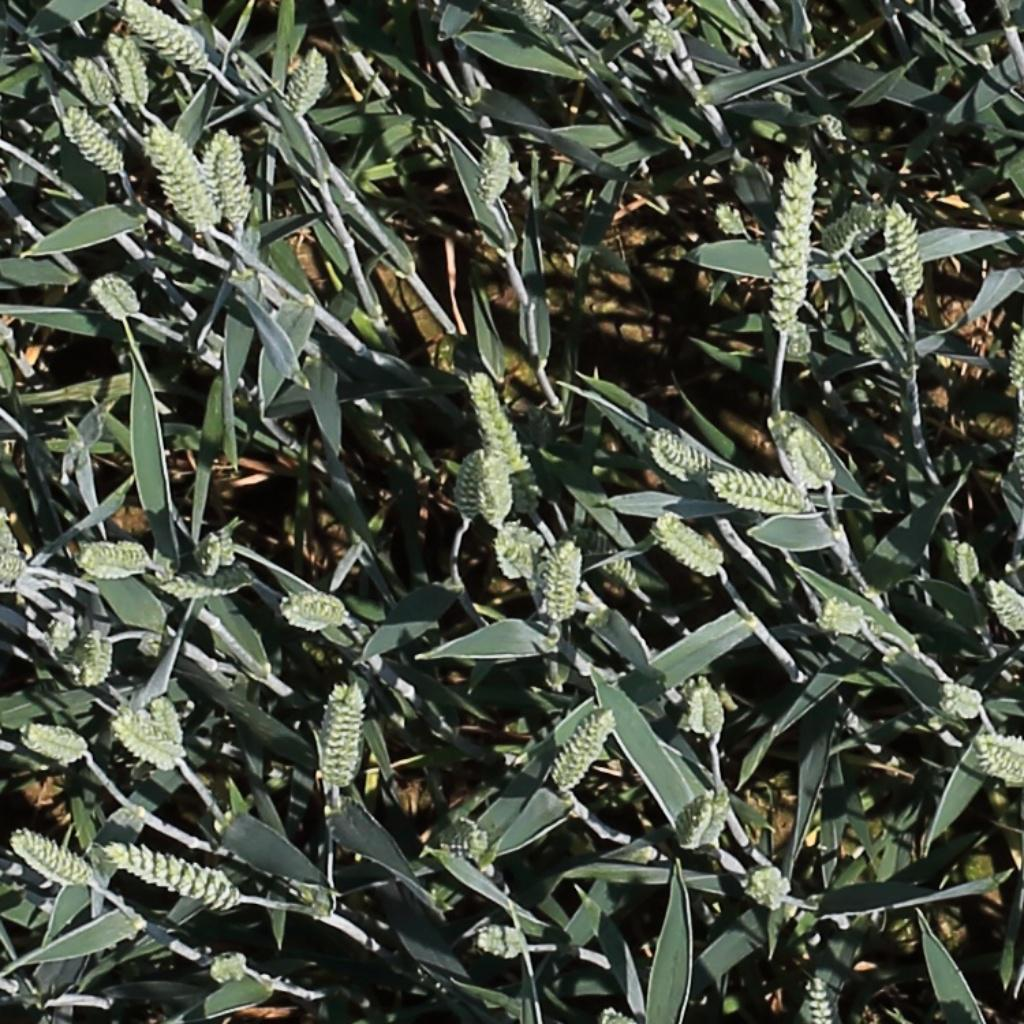0-0: (763, 148, 815, 346), (107, 846, 241, 910), (147, 121, 217, 232), (552, 705, 618, 797), (122, 1, 208, 69), (469, 368, 522, 477), (60, 98, 128, 177), (323, 678, 369, 788), (12, 831, 94, 890), (655, 514, 723, 572), (540, 535, 581, 628), (494, 522, 547, 593), (277, 589, 350, 640), (679, 785, 730, 857), (789, 421, 842, 490), (110, 718, 180, 770), (286, 42, 330, 124), (735, 858, 798, 915), (888, 196, 922, 301), (106, 31, 150, 111), (712, 475, 812, 510), (217, 122, 249, 230), (319, 676, 352, 774), (68, 47, 118, 111), (464, 923, 539, 963), (821, 202, 880, 252), (481, 441, 512, 535), (785, 423, 824, 496), (980, 574, 1024, 638), (74, 622, 114, 691), (88, 271, 140, 323), (204, 122, 232, 217), (653, 430, 709, 477), (456, 445, 488, 525), (480, 126, 510, 210), (817, 596, 874, 640), (148, 690, 187, 753), (287, 879, 344, 922), (19, 726, 90, 760), (157, 573, 252, 598), (692, 675, 724, 748), (604, 547, 648, 598), (196, 525, 239, 576), (435, 810, 487, 851), (50, 608, 92, 658), (518, 0, 566, 42), (77, 550, 140, 582), (976, 740, 1024, 780), (651, 441, 700, 480), (645, 10, 677, 66), (954, 535, 981, 593), (937, 684, 984, 712), (808, 970, 832, 1024), (0, 503, 21, 562), (210, 954, 249, 984), (0, 552, 25, 580), (599, 1006, 633, 1024)
